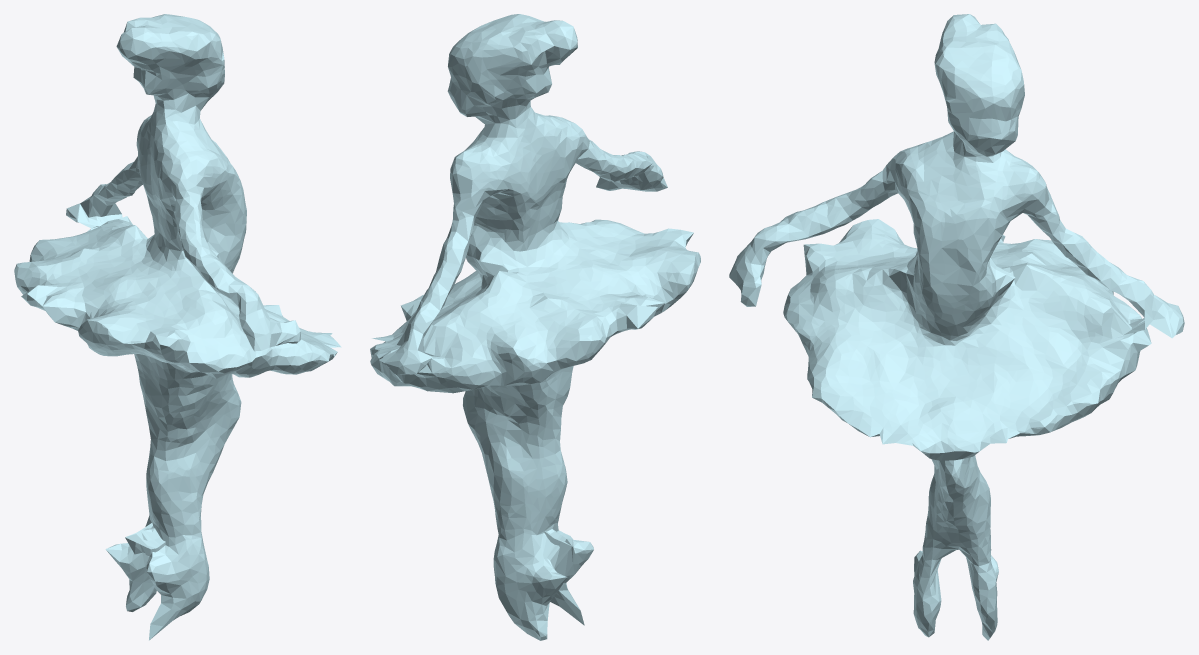
Rendered from girl_dancing-depth.glb.
The picture shows the model from 3 angles, left to right: view 1: azimuth 30°, elevation 25°; view 2: azimuth 150°, elevation 25°; view 3: azimuth 270°, elevation 25°; orthographic projection. The views are drawn at different scales.
Visible parts, largest first — view 1: extracted_mesh; view 2: extracted_mesh; view 3: extracted_mesh.
Part boxes in pixels (bbox=[...]): extracted_mesh: bbox=[14, 14, 341, 640]; extracted_mesh: bbox=[370, 14, 700, 640]; extracted_mesh: bbox=[729, 14, 1184, 640].
Size of the model in its own units: 0.529 by 1.09 by 0.7188.
Materials: 1 (1 with a texture image).
